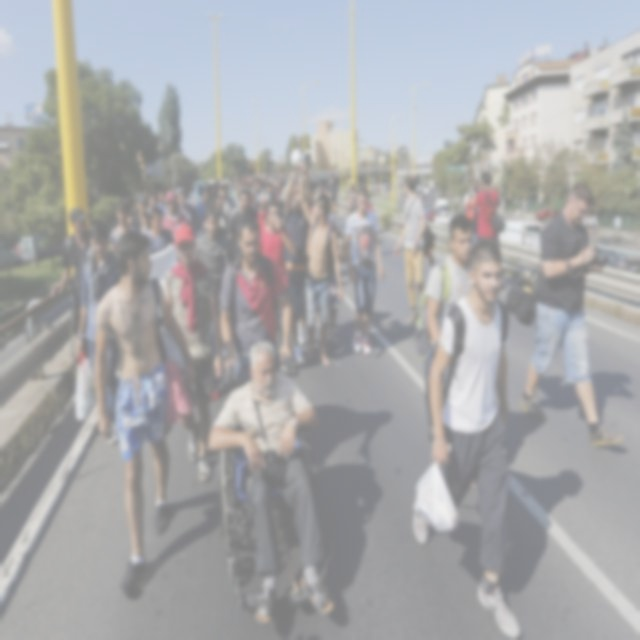pessoa: (409, 235, 527, 639), (90, 227, 202, 598), (208, 338, 336, 628), (504, 180, 626, 448), (416, 212, 478, 490), (162, 223, 222, 482), (220, 217, 294, 380), (75, 219, 122, 446), (296, 160, 346, 368), (193, 207, 234, 395), (344, 185, 386, 358), (392, 172, 437, 326), (258, 199, 296, 376), (50, 206, 91, 370), (284, 160, 313, 363), (470, 171, 506, 252), (316, 238, 340, 346), (228, 188, 260, 260), (109, 198, 138, 262), (206, 168, 296, 188), (142, 205, 176, 256), (162, 190, 190, 242), (176, 190, 204, 240), (463, 178, 482, 246), (203, 194, 231, 236), (313, 178, 339, 215), (217, 179, 240, 219), (261, 186, 284, 224), (132, 192, 152, 235), (219, 180, 239, 220), (195, 186, 212, 233), (308, 166, 352, 179), (325, 175, 340, 208), (252, 179, 266, 214), (124, 196, 138, 227), (258, 182, 272, 213), (206, 178, 220, 206), (154, 189, 167, 218), (348, 184, 359, 218), (146, 190, 156, 227), (280, 181, 290, 215), (354, 164, 392, 172), (612, 213, 622, 242), (361, 177, 371, 202), (232, 180, 242, 198), (310, 187, 316, 215), (190, 182, 197, 206), (581, 216, 589, 236), (592, 212, 598, 236), (588, 214, 594, 236), (329, 173, 338, 186), (233, 186, 241, 200), (394, 164, 414, 169), (414, 163, 432, 168), (516, 207, 522, 220), (294, 182, 300, 195), (268, 178, 274, 186), (638, 227, 639, 253)
